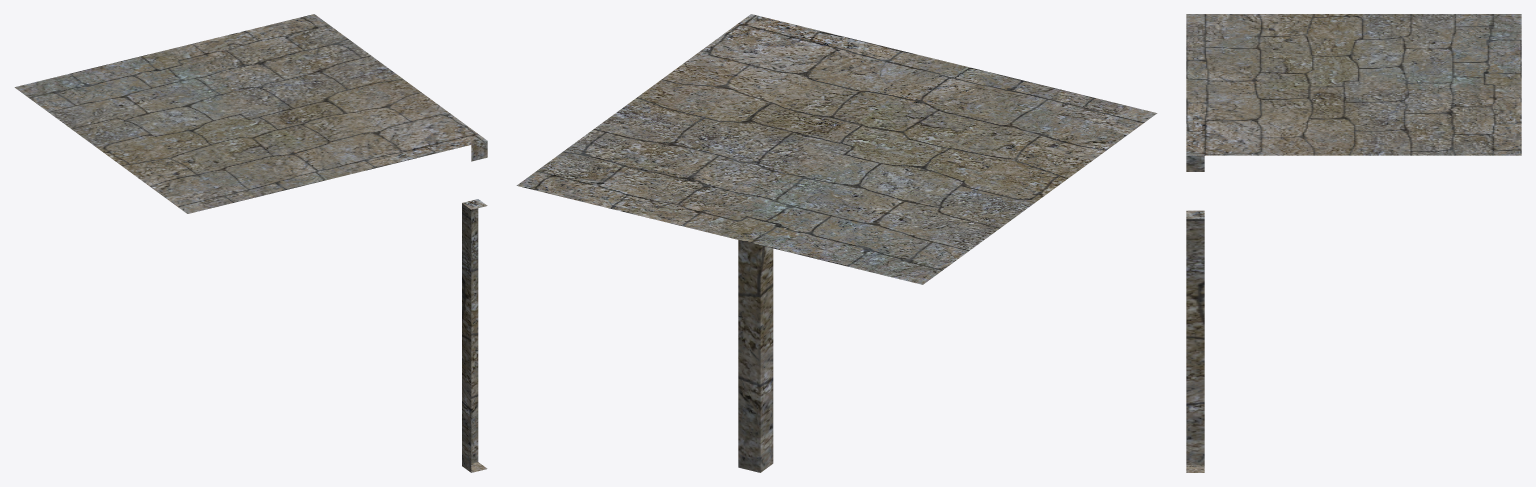
Rendered from T_R_Inner.FBX.
3 renders of one model, left to right at view 1: azimuth 30°, elevation 25°; view 2: azimuth 150°, elevation 25°; view 3: azimuth 270°, elevation 25°, orthographic. The views are drawn at different scales.
Parts seen in each view (by area): view 1: ClaimedCo100SE001; view 2: ClaimedCo100SE001; view 3: ClaimedCo100SE001.
Part boxes in pixels (<box>): ClaimedCo100SE001: <box>14,14,487,472</box>; ClaimedCo100SE001: <box>516,14,1157,472</box>; ClaimedCo100SE001: <box>1186,14,1521,472</box>.
Bounding box in the file's own units: 100 × 104 × 100.
